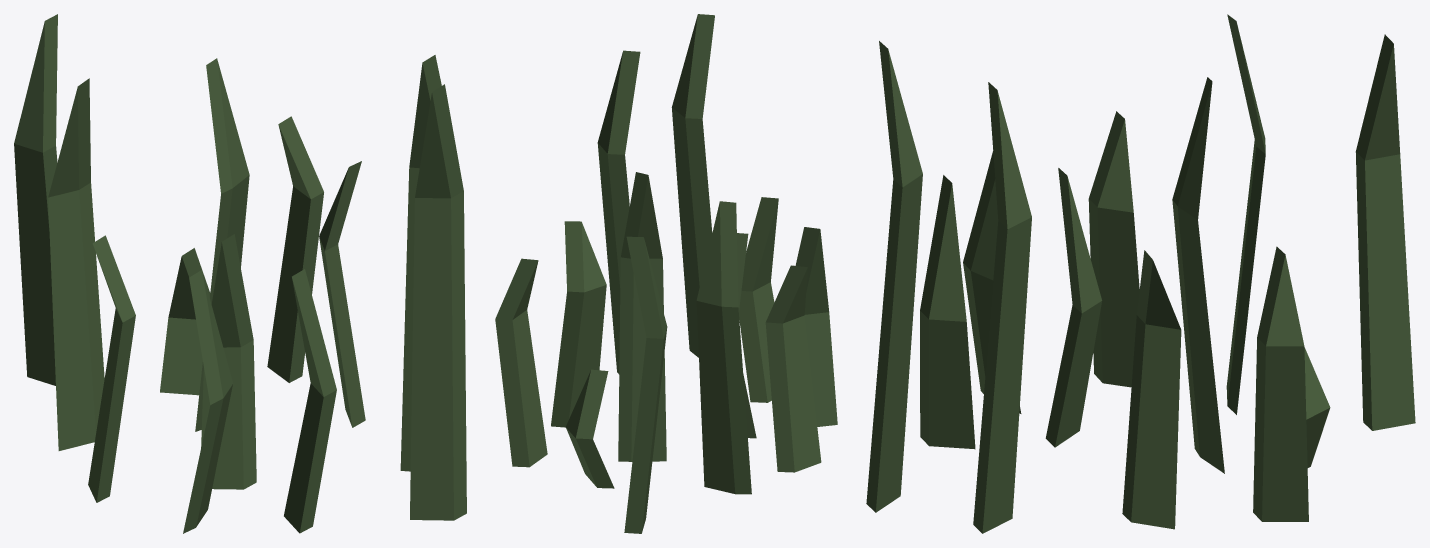
The model's file is Grass_3.gltf.
3 renders of one model, left to right at view 1: azimuth 30°, elevation 25°; view 2: azimuth 150°, elevation 25°; view 3: azimuth 270°, elevation 25°, orthographic. The views are drawn at different scales.
Parts seen in each view (by area): view 1: Grass_Short; view 2: Grass_Short; view 3: Grass_Short.
Part boxes in pixels (x1=…): Grass_Short: x1=14, y1=14, x2=466, y2=533; Grass_Short: x1=495, y1=14, x2=837, y2=533; Grass_Short: x1=866, y1=14, x2=1415, y2=533.
Size of the model in its own units: 0.3162 by 0.4046 by 0.4417.
